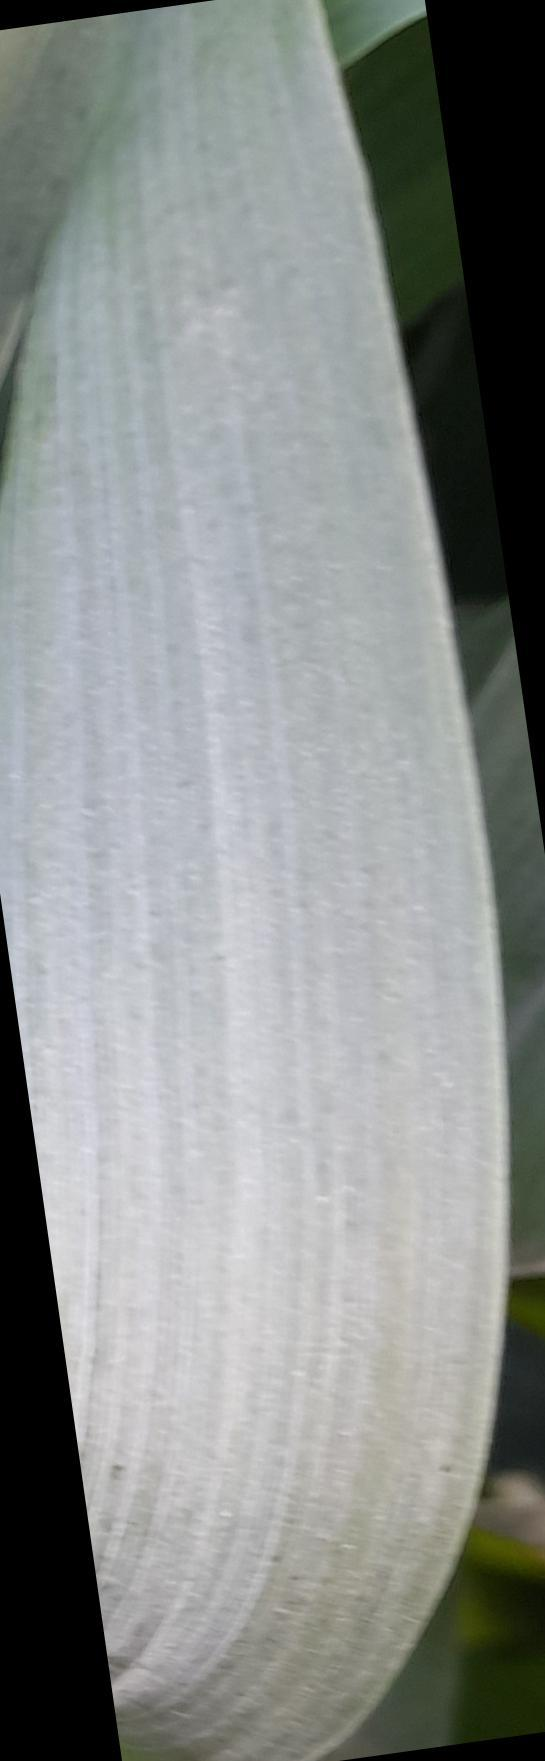Wheat: (16, 76, 329, 873), (92, 949, 471, 1482), (149, 1520, 380, 1676)
